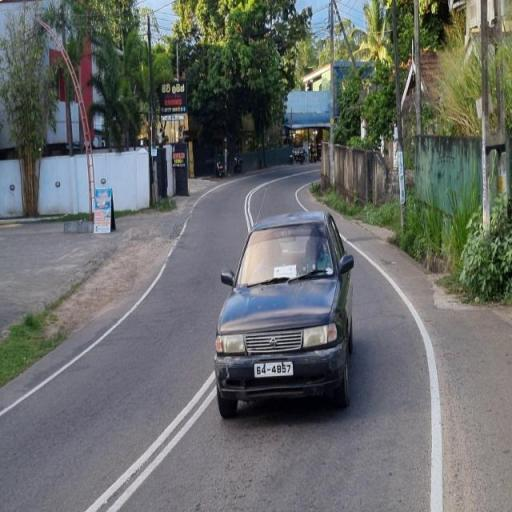double_white_line: (81, 370, 214, 510)
